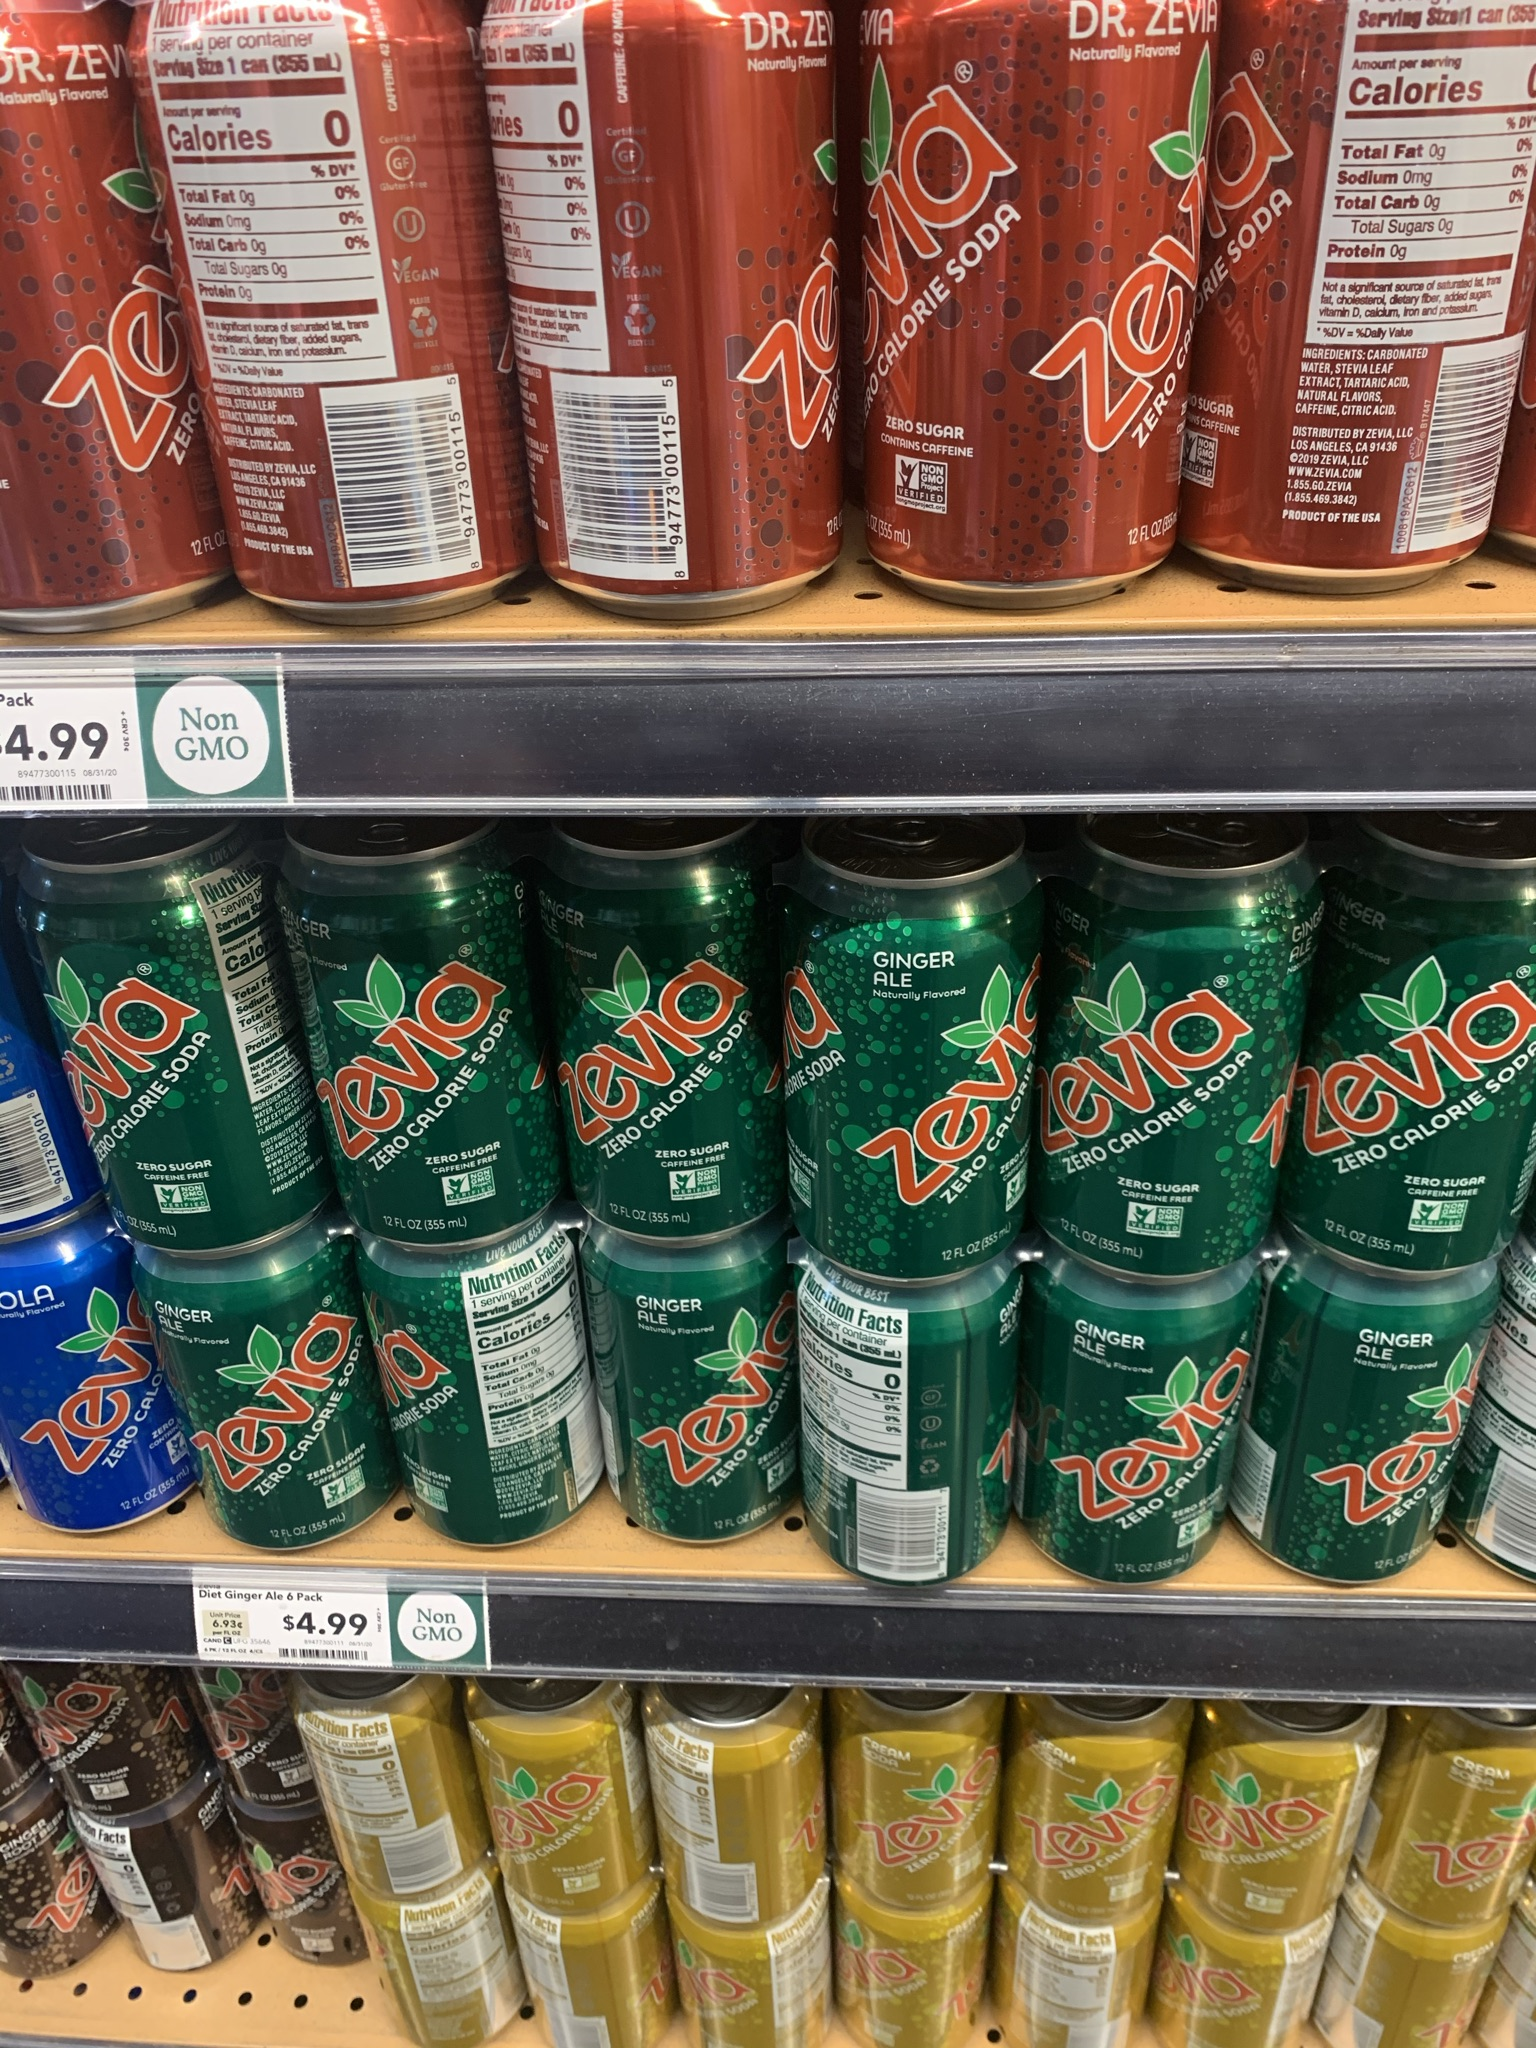can: (858, 3, 1196, 547), (539, 2, 828, 569), (1226, 2, 1509, 566), (237, 3, 479, 577), (1055, 835, 1294, 1251), (791, 847, 1021, 1256), (2, 26, 145, 589), (1321, 843, 1518, 1248), (339, 851, 532, 1214), (578, 853, 755, 1221), (1284, 1284, 1488, 1577), (116, 851, 266, 1242), (815, 1292, 1004, 1564), (1050, 1297, 1231, 1564), (599, 1253, 770, 1532), (411, 1271, 565, 1521), (205, 1259, 340, 1532), (662, 1705, 815, 1909), (1029, 1705, 1171, 1925), (494, 1685, 642, 1893), (844, 1701, 983, 1913), (1215, 1722, 1347, 1922), (1407, 1722, 1520, 1917), (349, 1693, 450, 1893)
